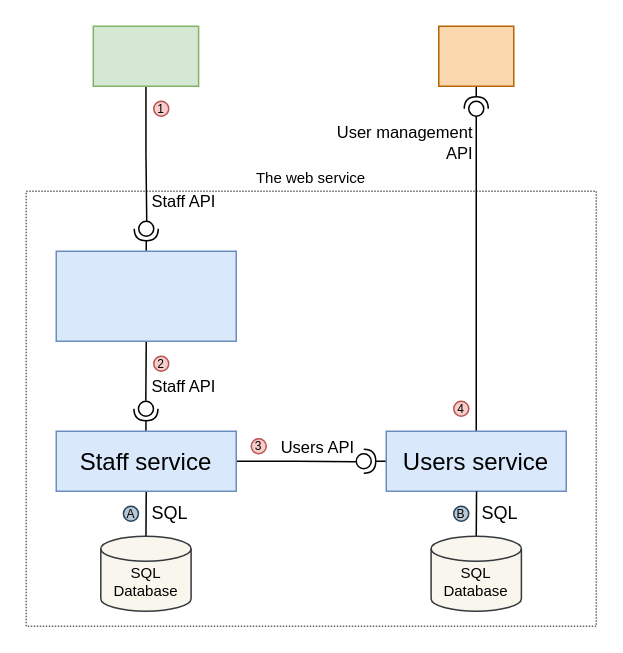
Some shapes in this 623 by 653 pixel diagram are drawn without their labels. Each missing label, with the centre of its shape:
"API Gateway (TLS termination)" goes at point (145, 295).
"Client" goes at point (145, 55).
"IdP" goes at point (475, 55).
